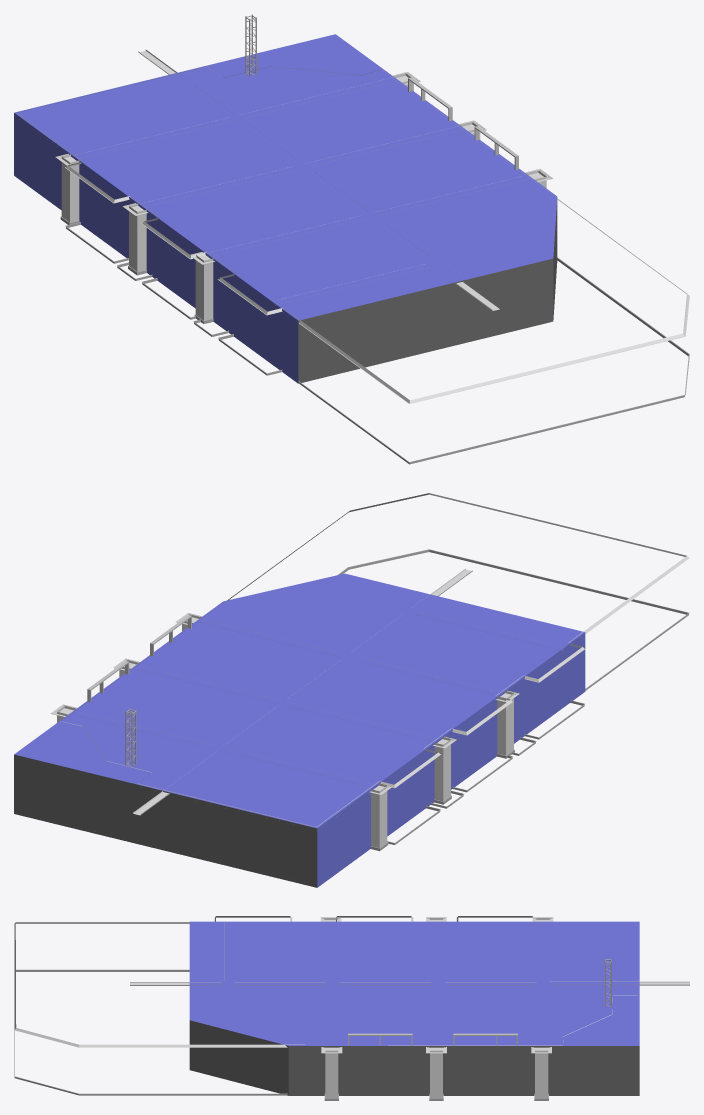
Rendered from Room_1.fbx.
3 views of the same model, one above another, from view 1: azimuth 30°, elevation 25°; view 2: azimuth 150°, elevation 25°; view 3: azimuth 270°, elevation 25° (orthographic). The views are drawn at different scales.
Parts seen in each view (by area): view 1: Room.009, Room.011, Room.012, Column.019, Column.004, Column.017; view 2: Room.009, Room.011, Room.012, Column.004, Column.017, Column.019; view 3: Room.009, Room.011, Room.012, Column.007, Column.011, Column.009, Column.030, Column.034.
Boxes of the visible parts, <box> form: Room.009: <box>14,34,557,383</box>; Room.011: <box>17,66,689,403</box>; Room.012: <box>65,222,689,464</box>; Column.019: <box>195,255,213,320</box>; Column.004: <box>61,154,79,222</box>; Column.017: <box>129,203,146,271</box>; Room.009: <box>14,573,585,887</box>; Room.011: <box>61,493,689,827</box>; Room.012: <box>337,549,689,844</box>; Column.004: <box>371,783,387,847</box>; Column.017: <box>434,737,450,801</box>; Column.019: <box>497,691,513,755</box>; Room.009: <box>189,921,639,1095</box>; Room.011: <box>14,916,637,1047</box>; Room.012: <box>14,969,287,1095</box>; Column.007: <box>535,1050,548,1098</box>; Column.011: <box>325,1050,338,1098</box>; Column.009: <box>430,1050,442,1098</box>; Column.030: <box>549,981,689,985</box>; Column.034: <box>130,982,221,985</box>.
Size of the model in its own units: 2007 by 649 by 4173.
